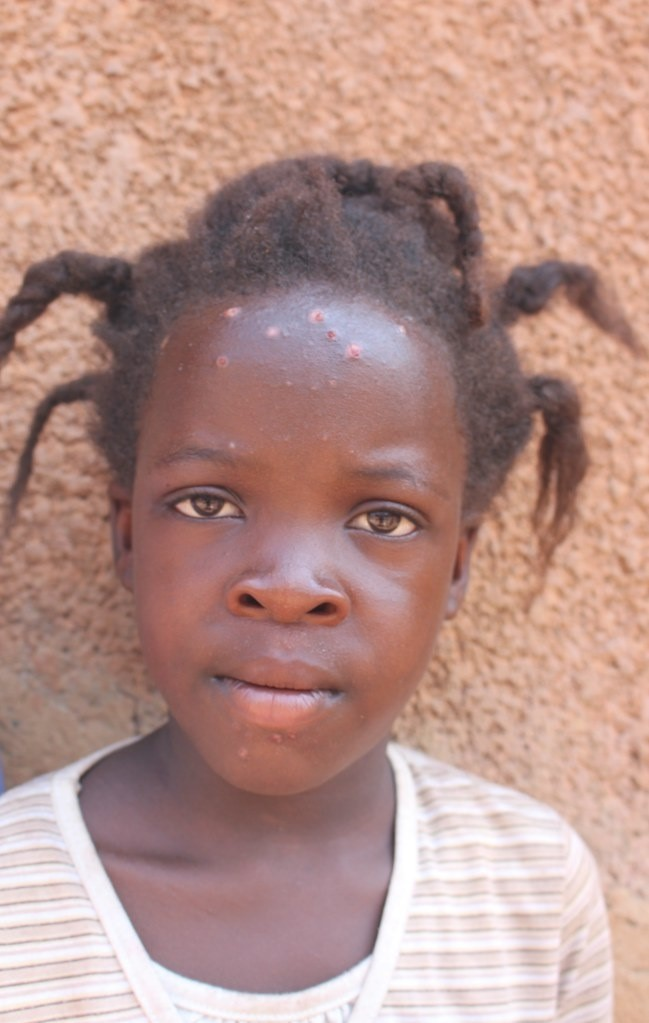face_no_mask: (111, 207, 499, 801)
